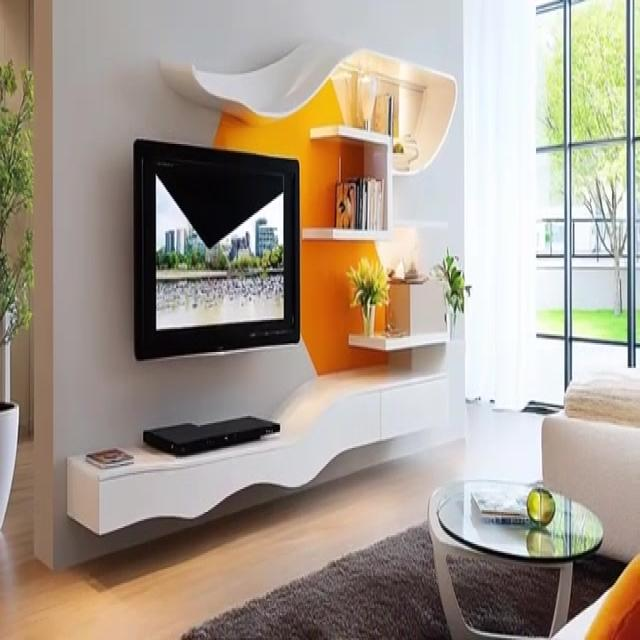obstacle: (427, 476, 604, 638)
